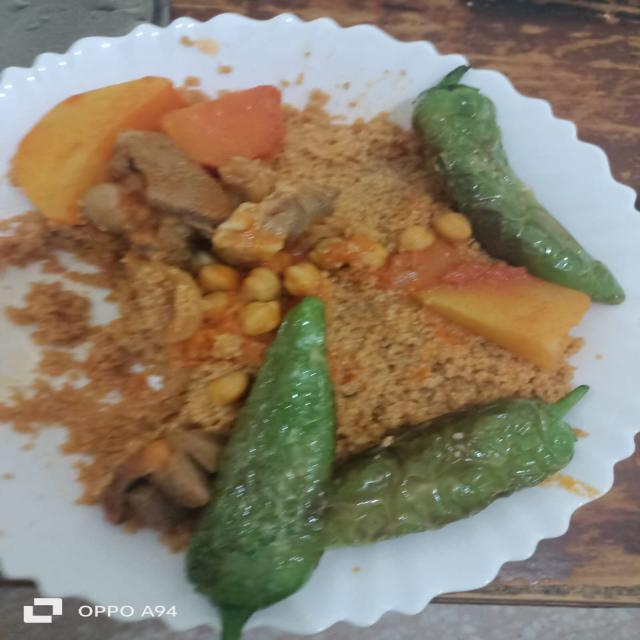Couscous: (8, 104, 543, 491)
